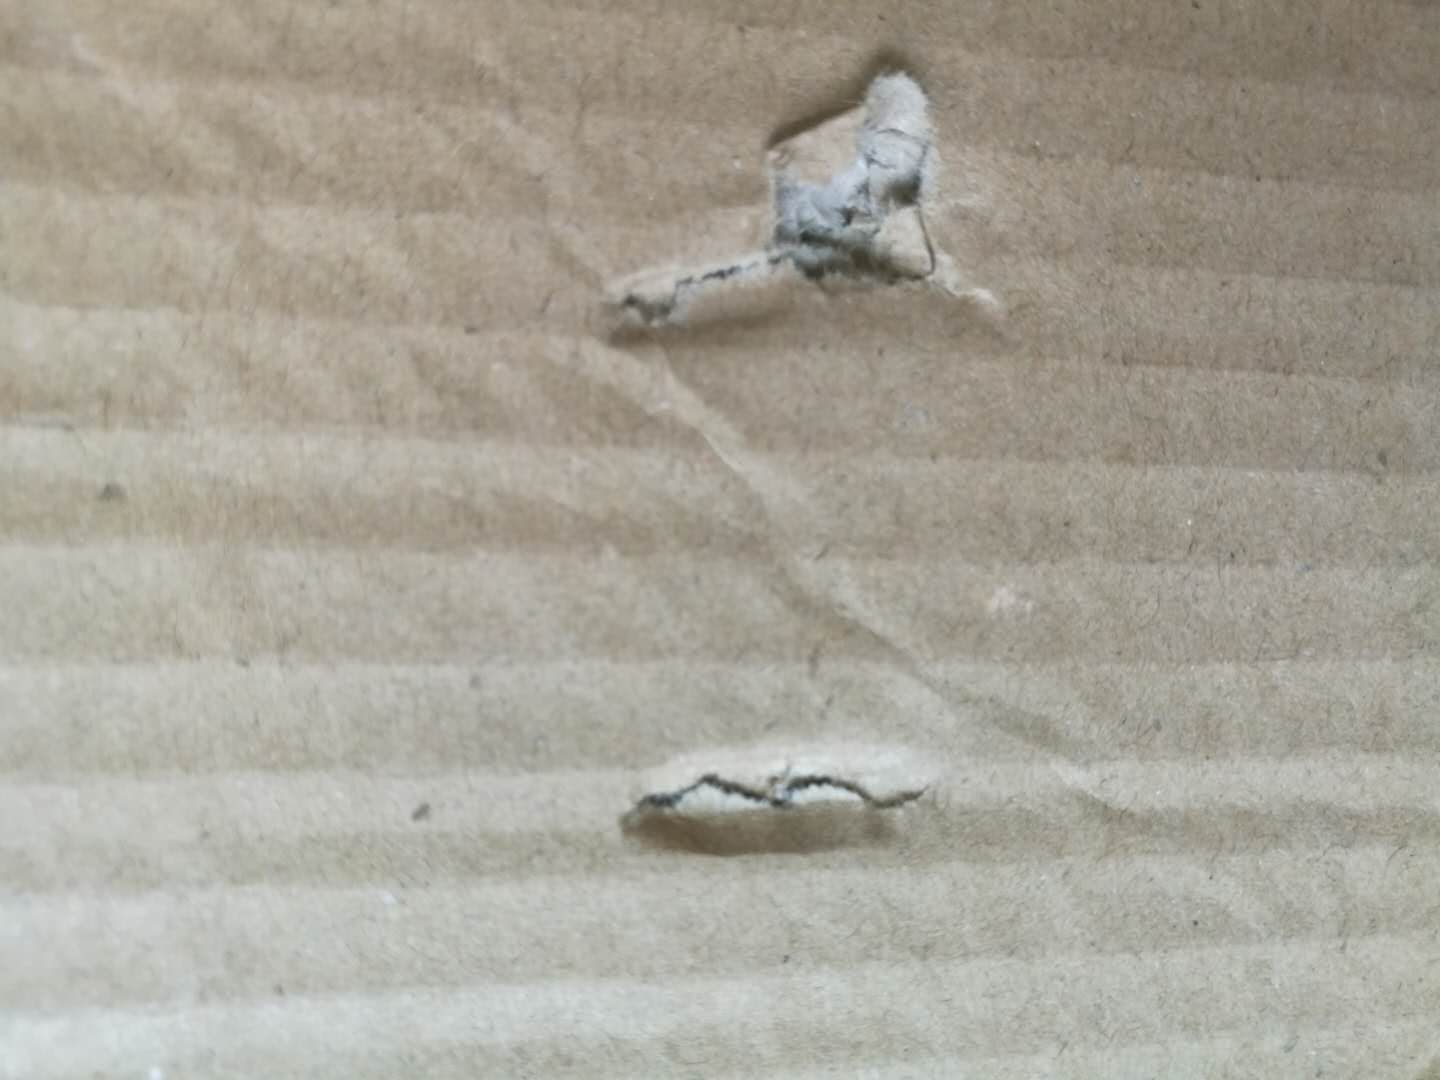defect: (719, 462, 1432, 1077), (505, 36, 1071, 503), (559, 701, 1000, 898)
